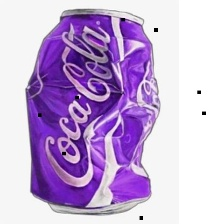can: (21, 6, 163, 218)
